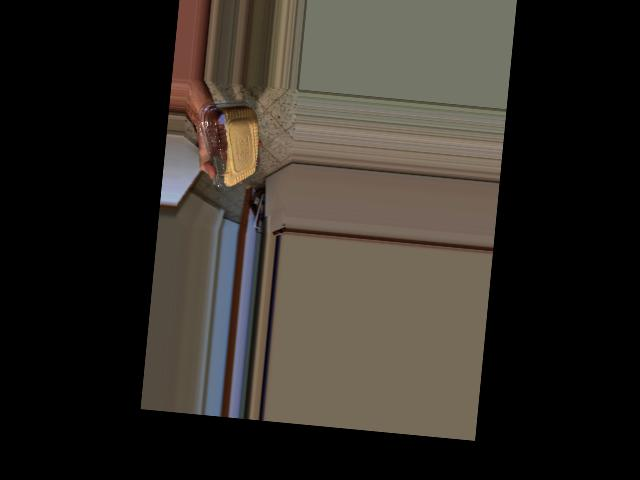cheese: (211, 92, 255, 171)
